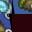heart: (12, 14, 32, 32)
mirror: (0, 0, 12, 14)
